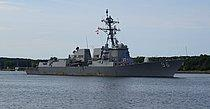MIL_Ship: (24, 41, 188, 78)
